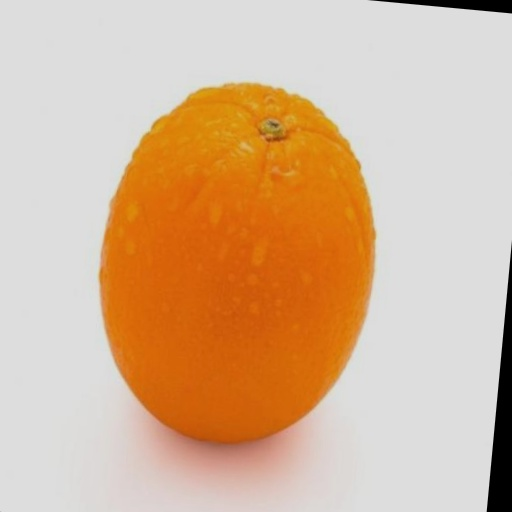fruit: (100, 84, 374, 443)
